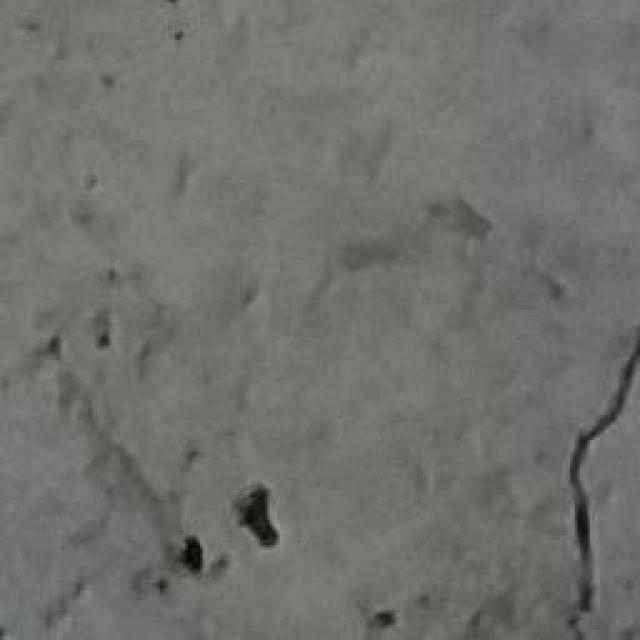Longitudinal: (547, 300, 640, 640)
